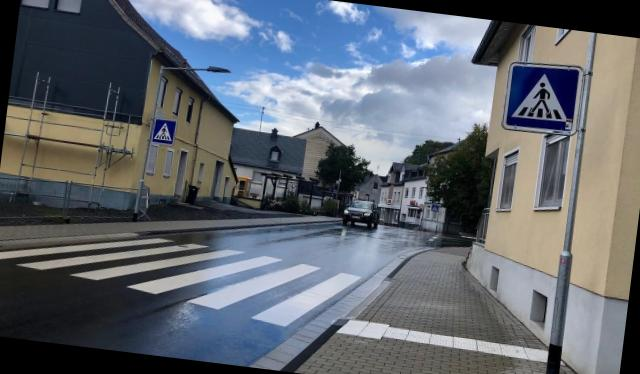crosswalk-sign: (501, 58, 585, 139), (151, 118, 178, 148)
